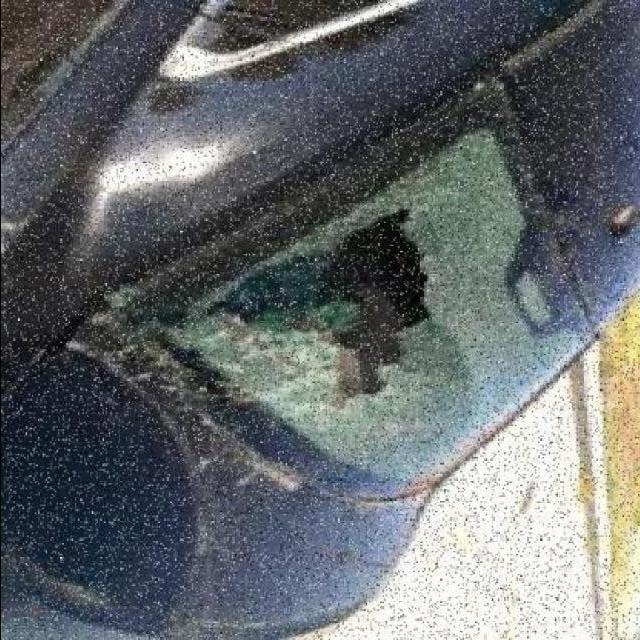Rear-windscreen-Damage: (134, 102, 591, 506)
